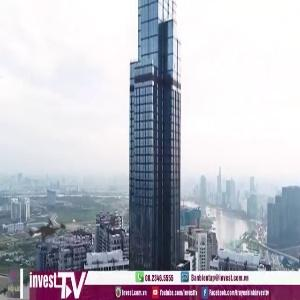drone: (9, 192, 84, 267)
